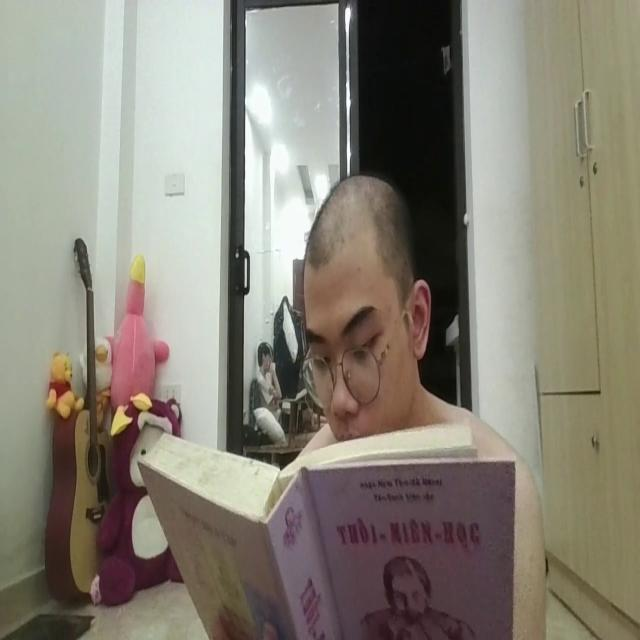book: (130, 413, 520, 640)
extra_person: (255, 334, 283, 417)
student: (301, 188, 447, 443)
